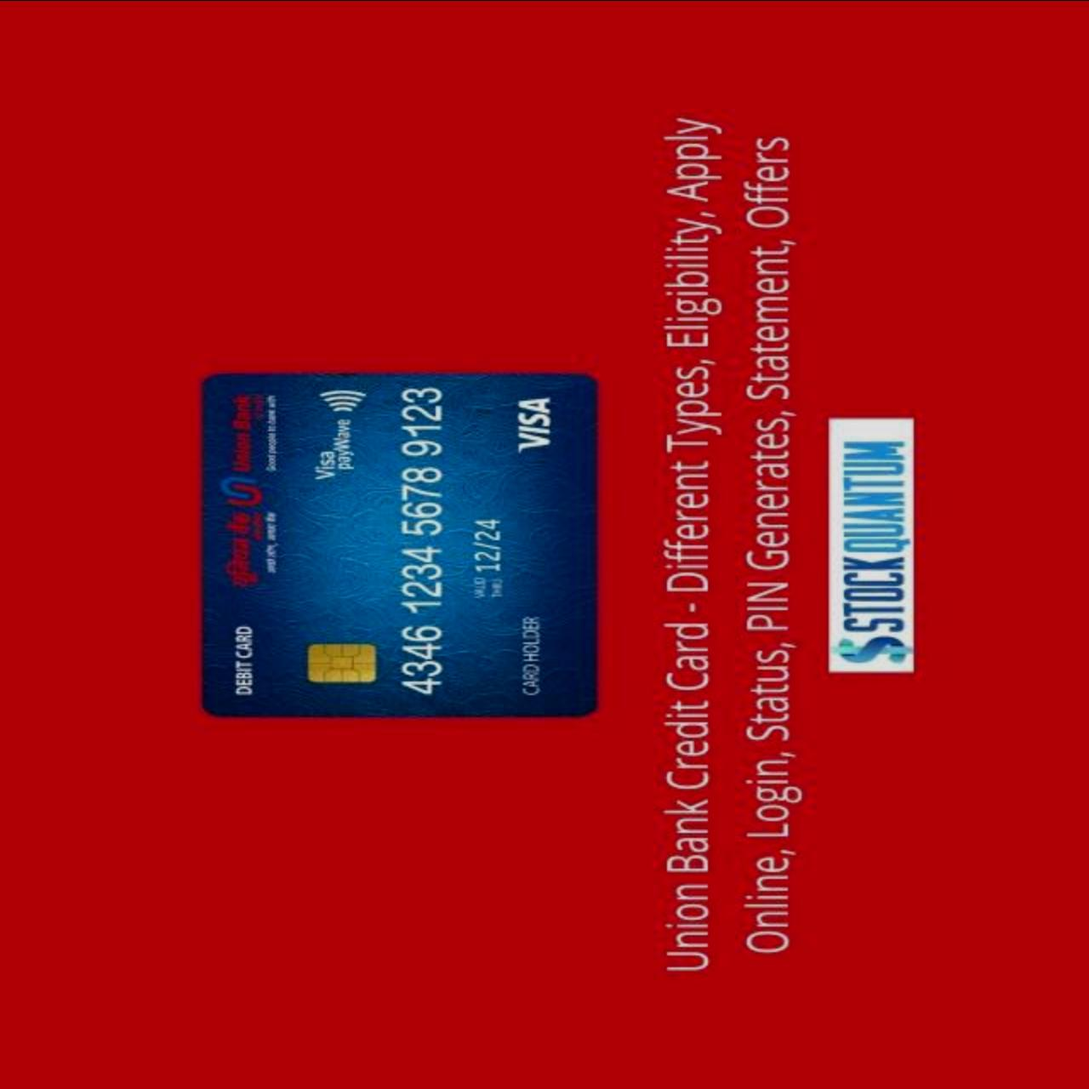credit_card: (201, 368, 596, 715)
